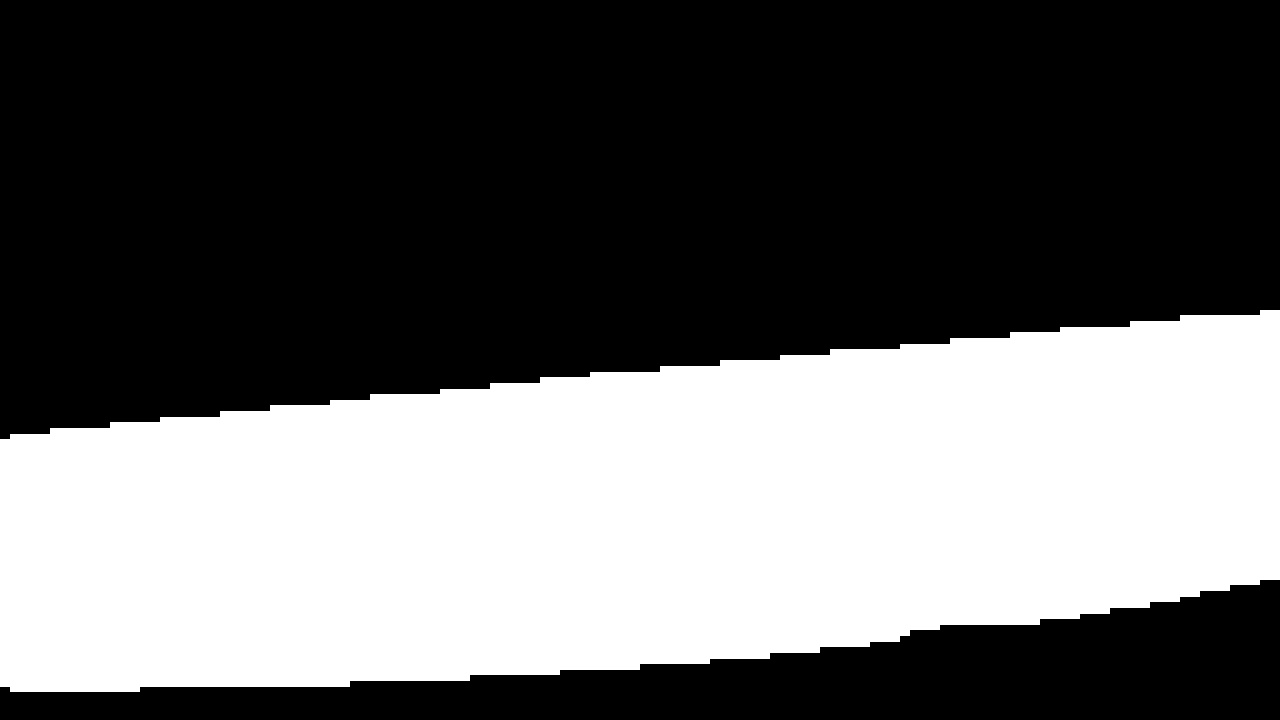Turbine: (6, 295, 1271, 706)
